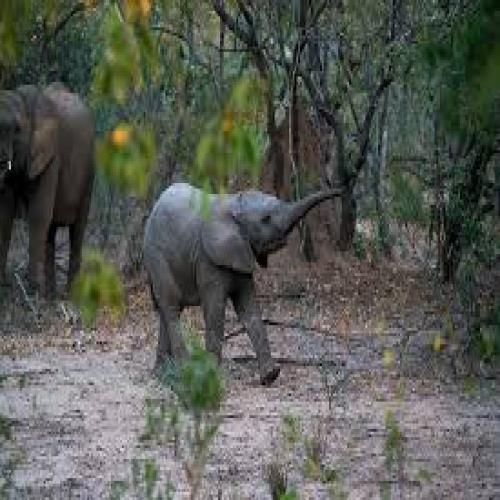asian_elephant-endangered: (145, 179, 344, 384), (0, 84, 98, 298)
